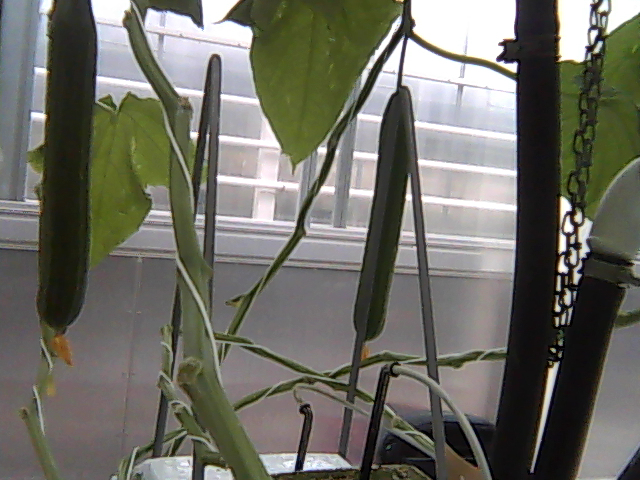concombre: (34, 1, 99, 367), (351, 79, 429, 371)
